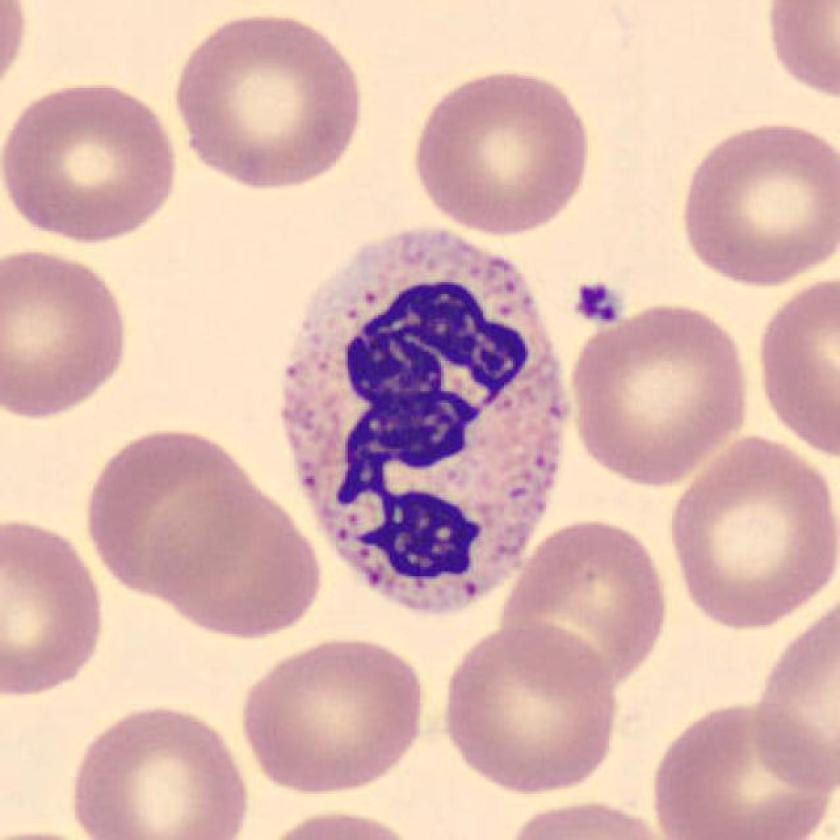neutrophil: (282, 227, 567, 613)
